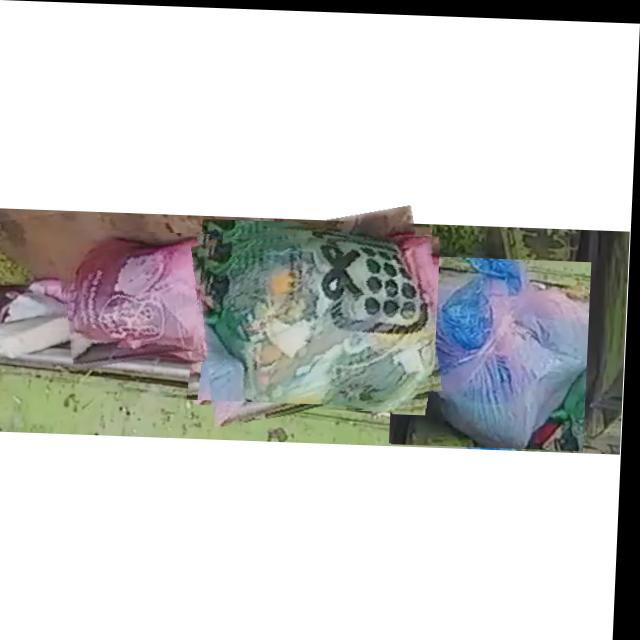general_trashbag: (201, 233, 438, 403)
other_trashbag: (399, 256, 592, 444), (68, 233, 224, 348)
